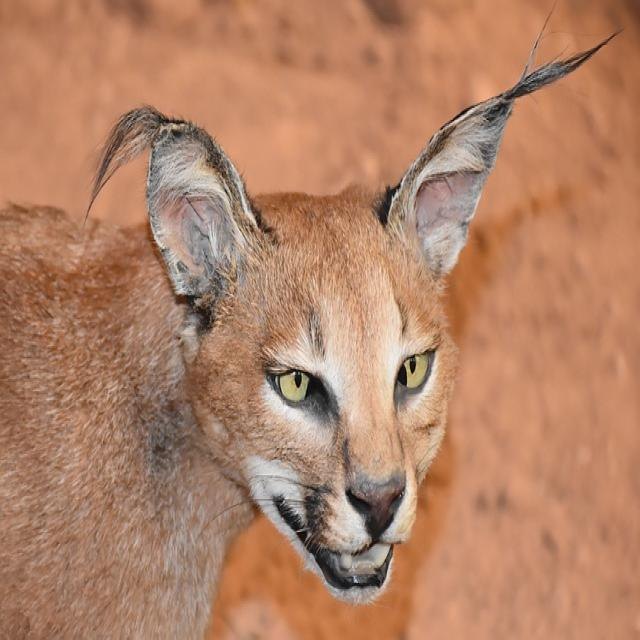Carnivorous: (0, 63, 576, 640)
